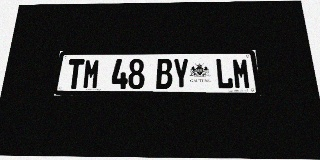4: (111, 59, 129, 89)
8: (128, 59, 145, 89)
B: (156, 59, 172, 89)
L: (215, 58, 234, 89)
M: (232, 58, 251, 89), (82, 59, 101, 89)
T: (66, 59, 85, 89)
Y: (173, 58, 190, 89)
